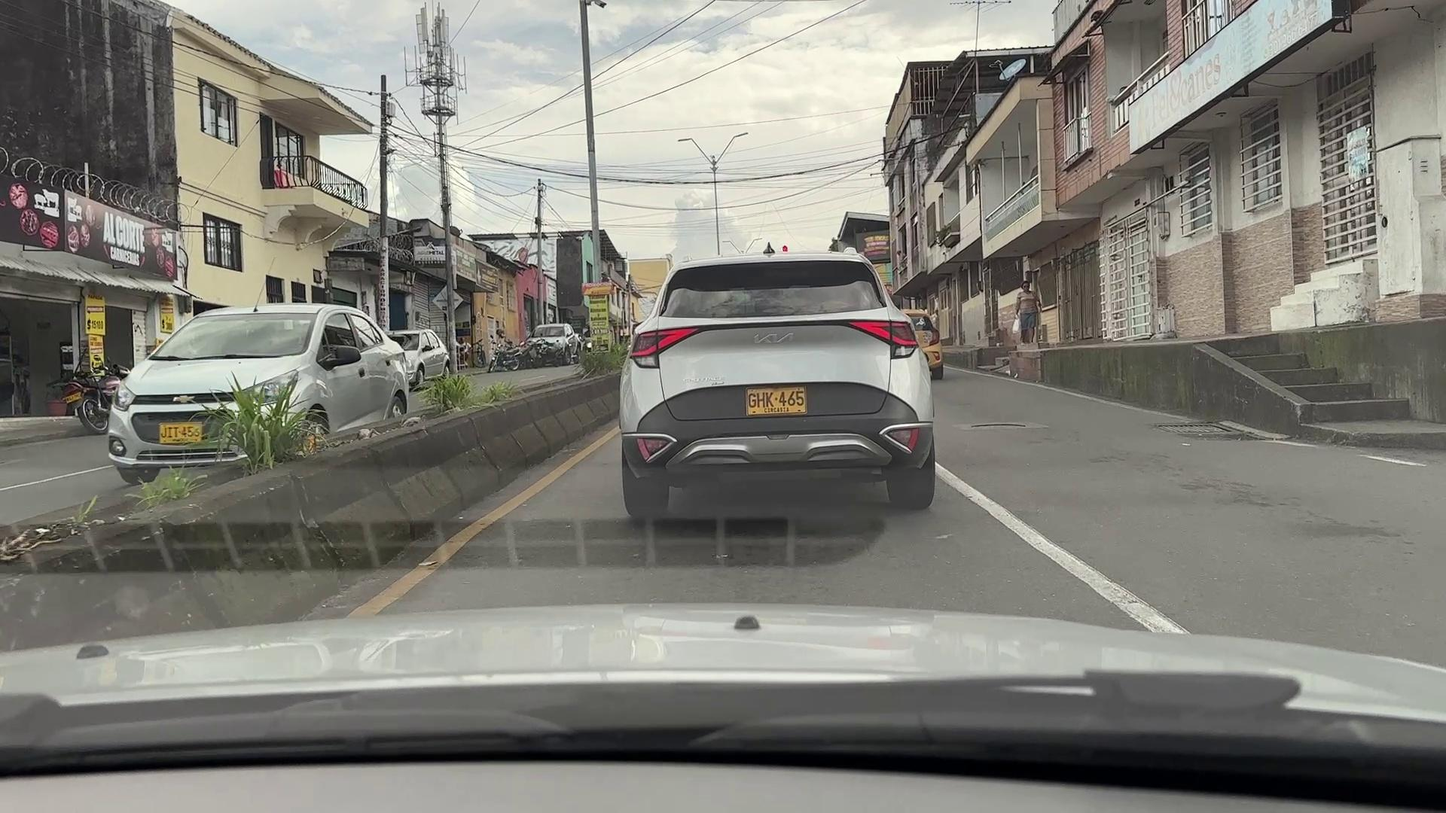registro: (972, 424, 1026, 428)
rejilla: (1152, 422, 1274, 441)
